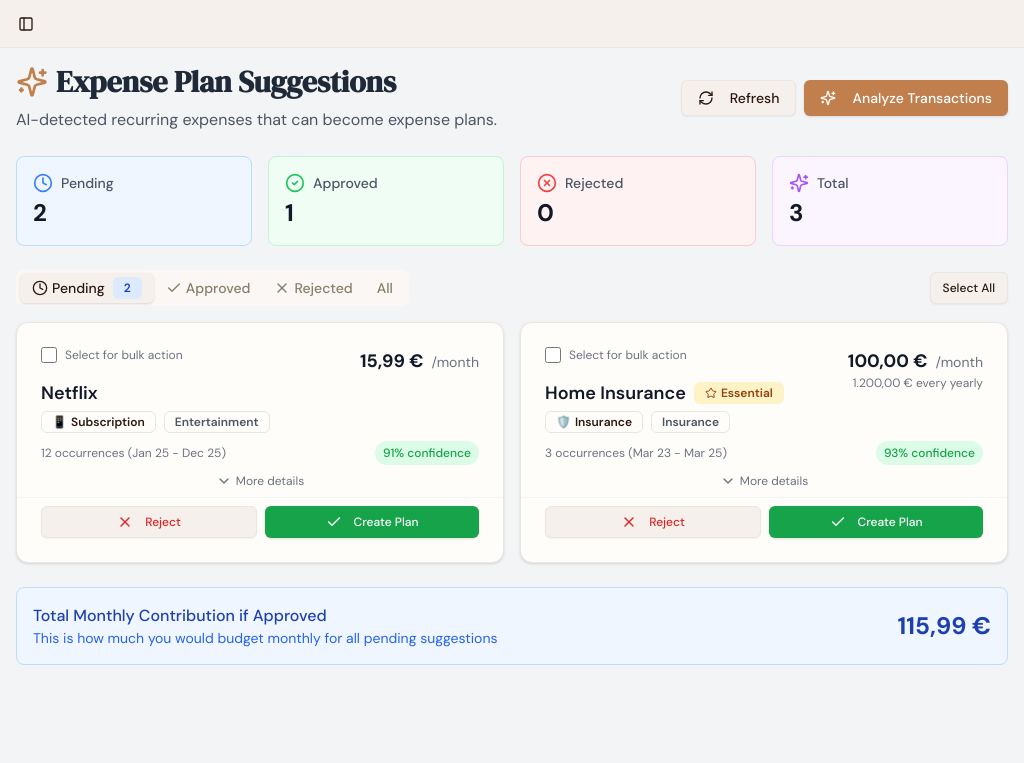
Test: Expense Plan Suggestions › Card Expand/Collapse › should expand card to show more details
# Click "More details" on first card
Click the button "More details" below "12" at (260, 481), box [41,473,479,489]
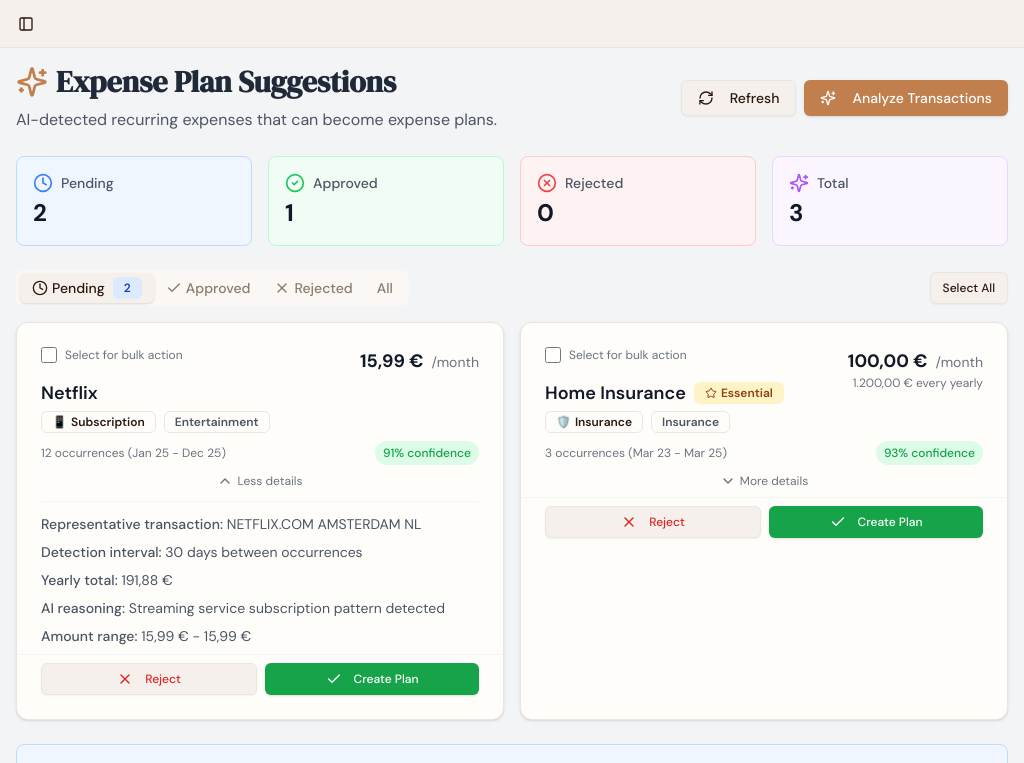
Expected: the text "Representative transaction" is shown, [41,515,223,533]
Expected: the text "Detection interval" is shown, [41,543,162,561]
Expected: the text "Yearly total" is shown, [41,571,118,589]
# Click "Less details" to collapse
Click the button "Less details" at (260, 481), box [41,473,479,489]
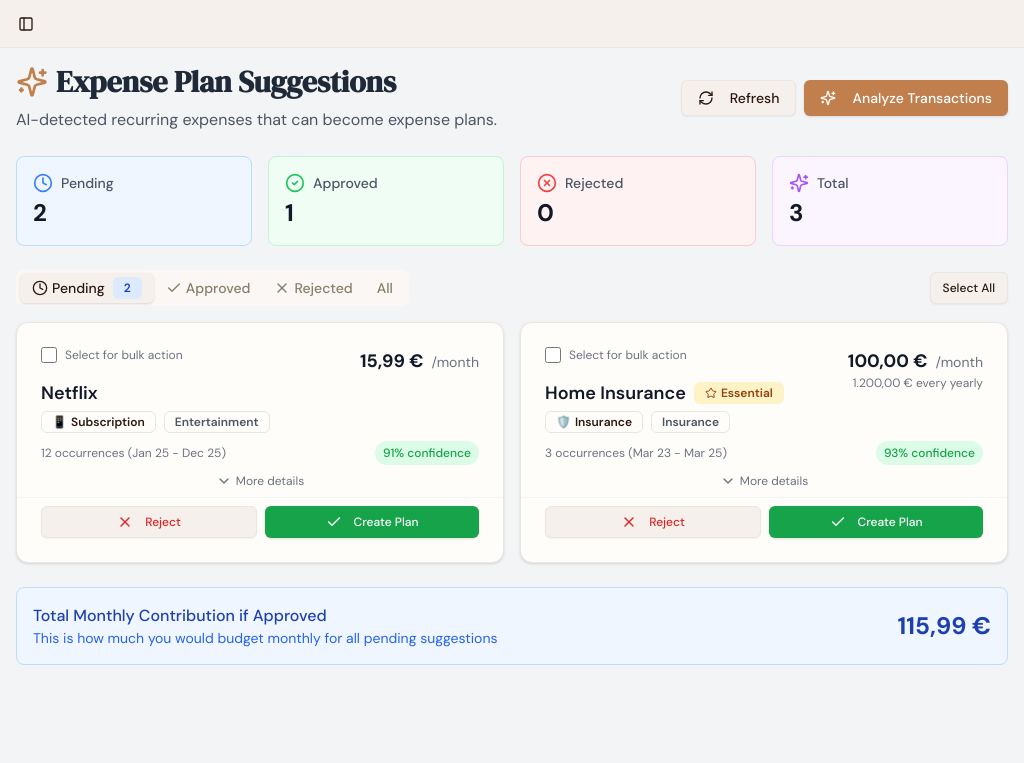
Expected: the text "Representative transaction" is gone
